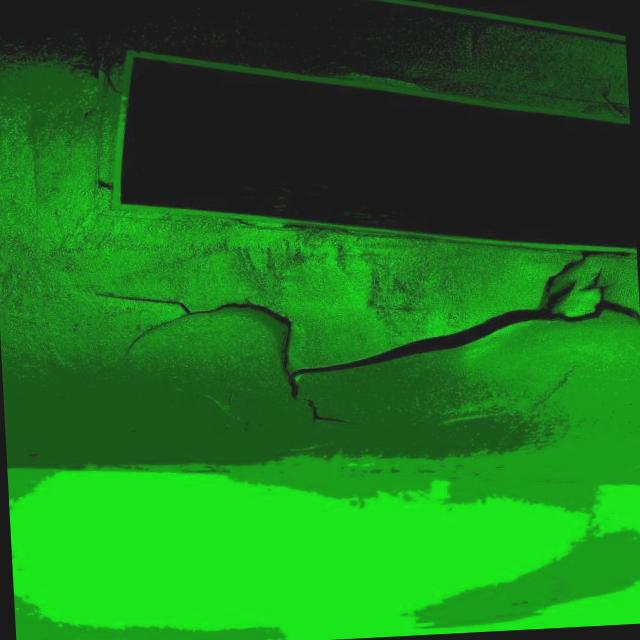crack: (267, 293, 640, 429), (98, 282, 272, 368), (184, 374, 256, 428)
